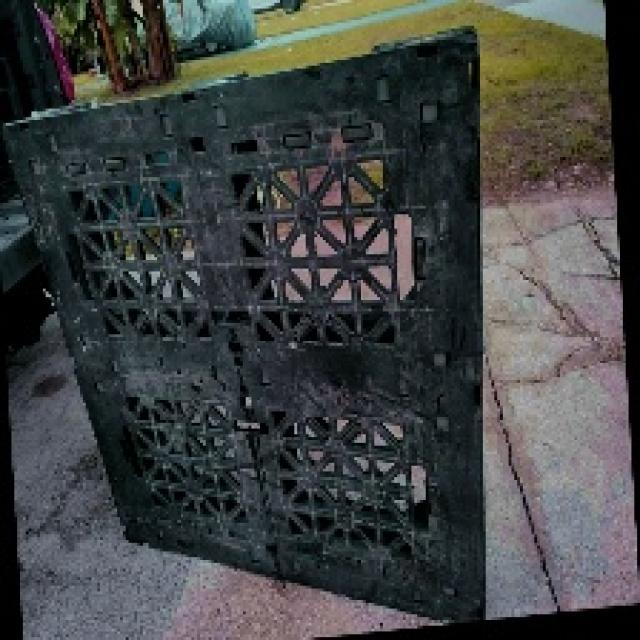igps: (0, 20, 489, 626)
